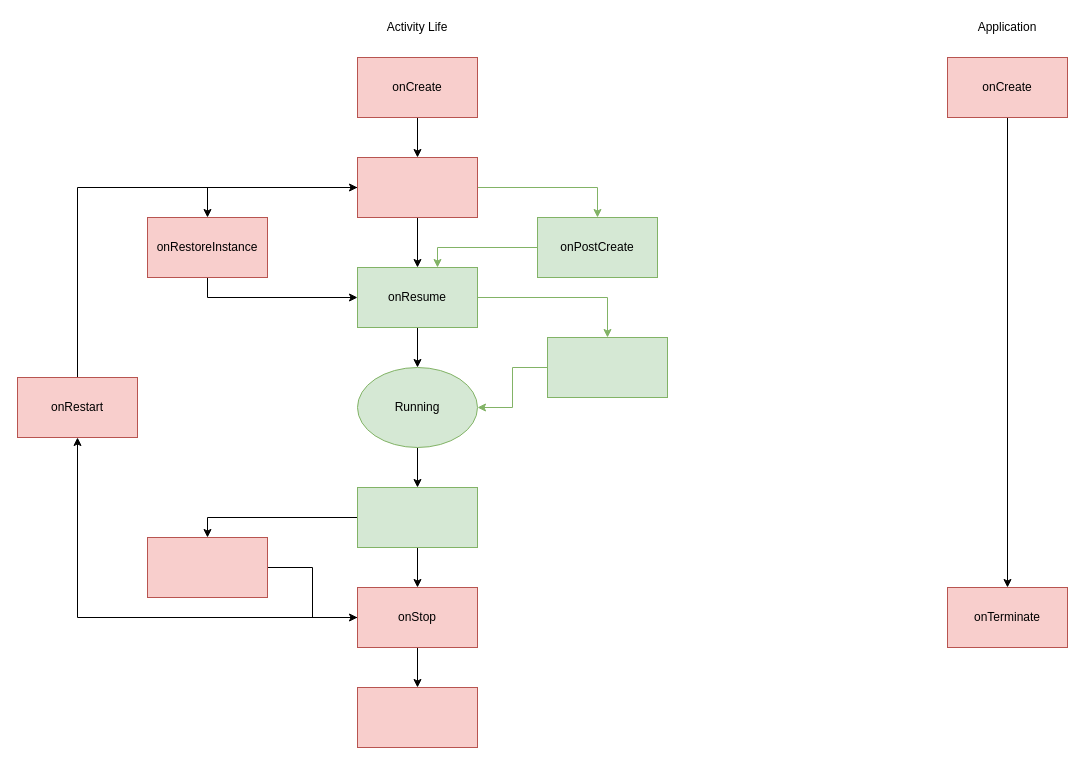
The diagram is 1085 pixels wide and 765 high, and some of its shapes have lost their labels. The centre of each missing label's shape, as x and y in pixels:
onDestroy: point 417,717
onPause: point 417,517
onPostResume: point 607,367
onSaveInstance: point 207,567
onStart: point 417,187
